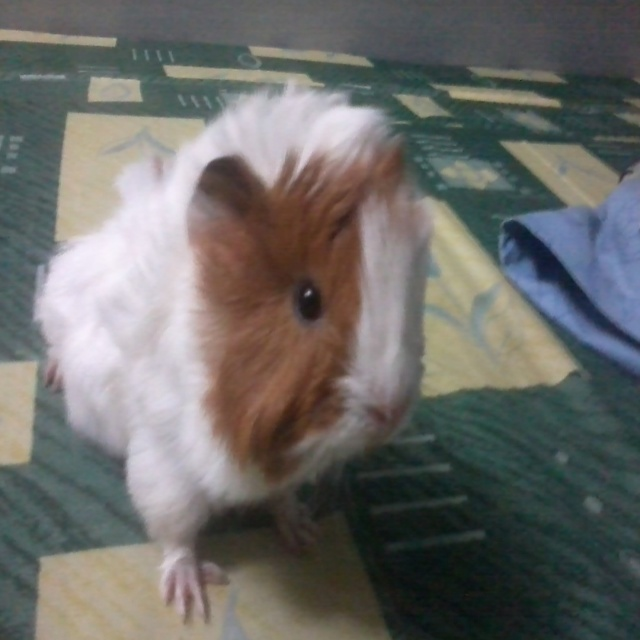Hamster: (29, 73, 433, 634)
